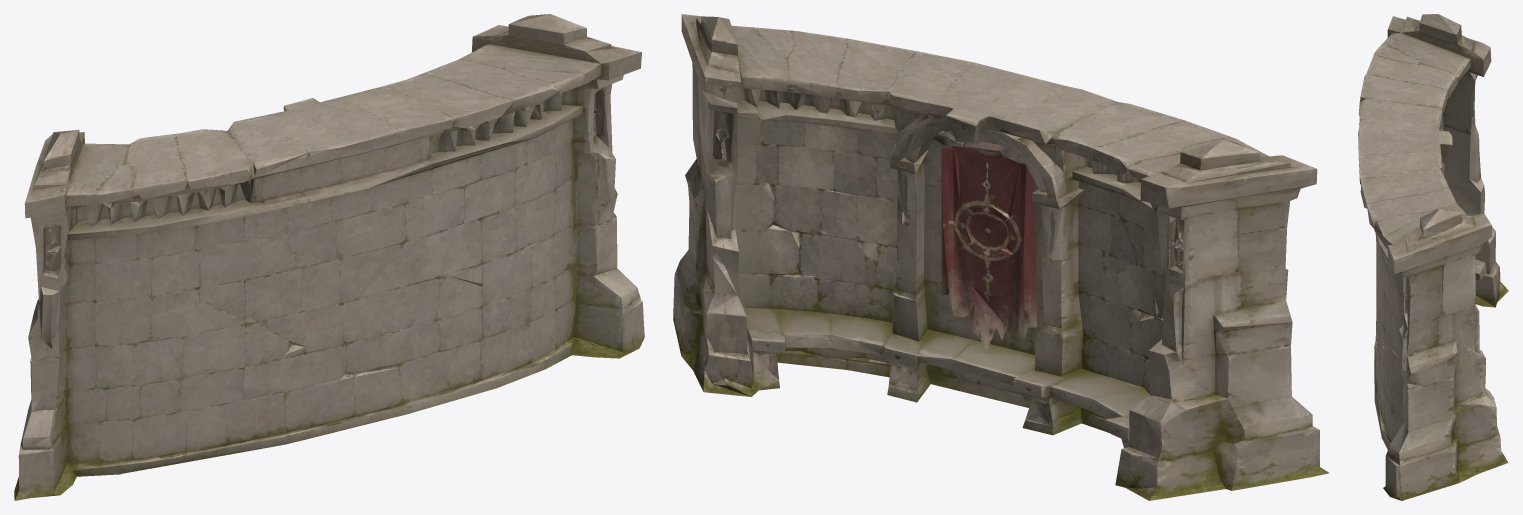
The model's file is hub_wall_segment.glb.
The picture shows the model from 3 angles, left to right: view 1: azimuth 30°, elevation 25°; view 2: azimuth 150°, elevation 25°; view 3: azimuth 270°, elevation 25°; orthographic projection. The views are drawn at different scales.
Visible parts, largest first — view 1: body; view 2: body; view 3: body.
Part boxes in pixels (x1,y1,x2,y2): body: (14, 14, 644, 500); body: (673, 14, 1329, 500); body: (1358, 14, 1508, 500).
Size of the model in its own units: 9.3 by 4.6 by 2.36.
Materials: 1 (1 with a texture image).
